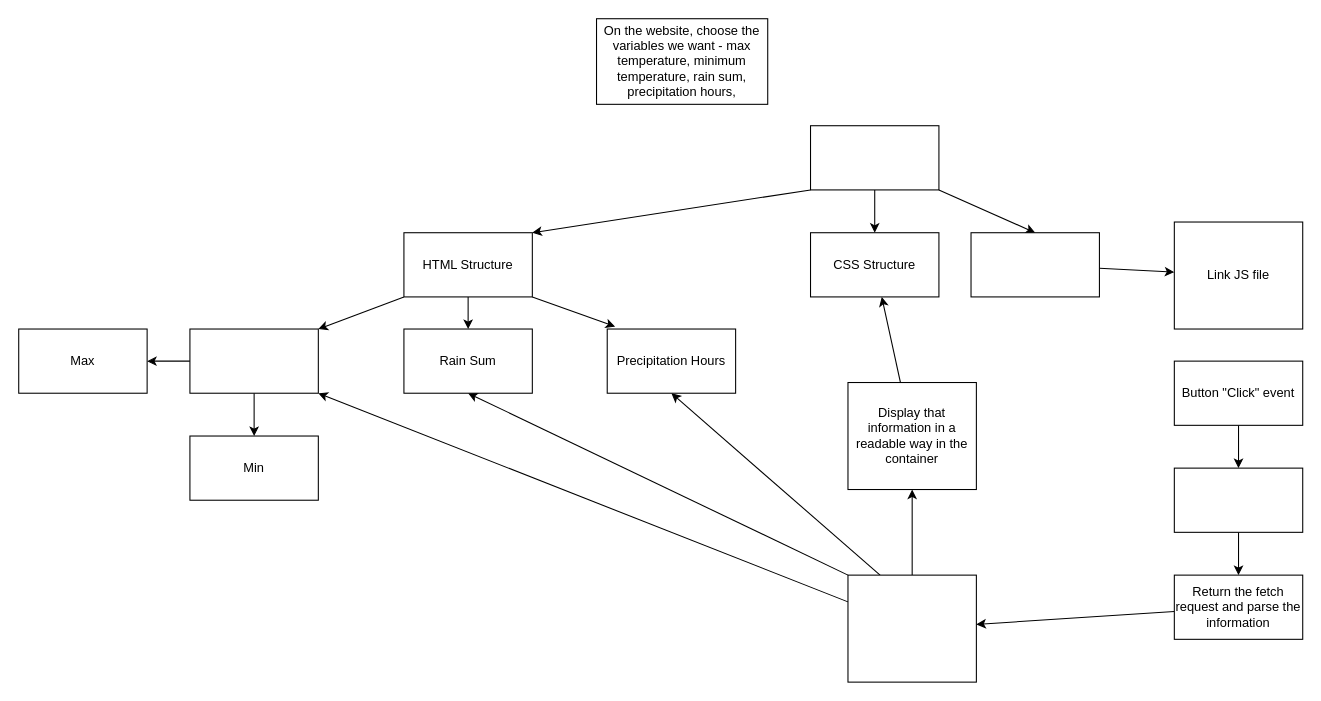
Image size: 1321x701. Some labels were removed from this diagram. The box of each missing label's shape, as (x1, y1, x2, y2) in pixels:
Add to HTML/CSS - splitting it up - split it out into IDs: (847, 574, 976, 682)
JavaScript File: (970, 232, 1099, 297)
Load Website: (809, 125, 939, 190)
Temperature: (189, 328, 318, 393)
Trigger eventListener and run the fetch request: (1173, 467, 1303, 532)
